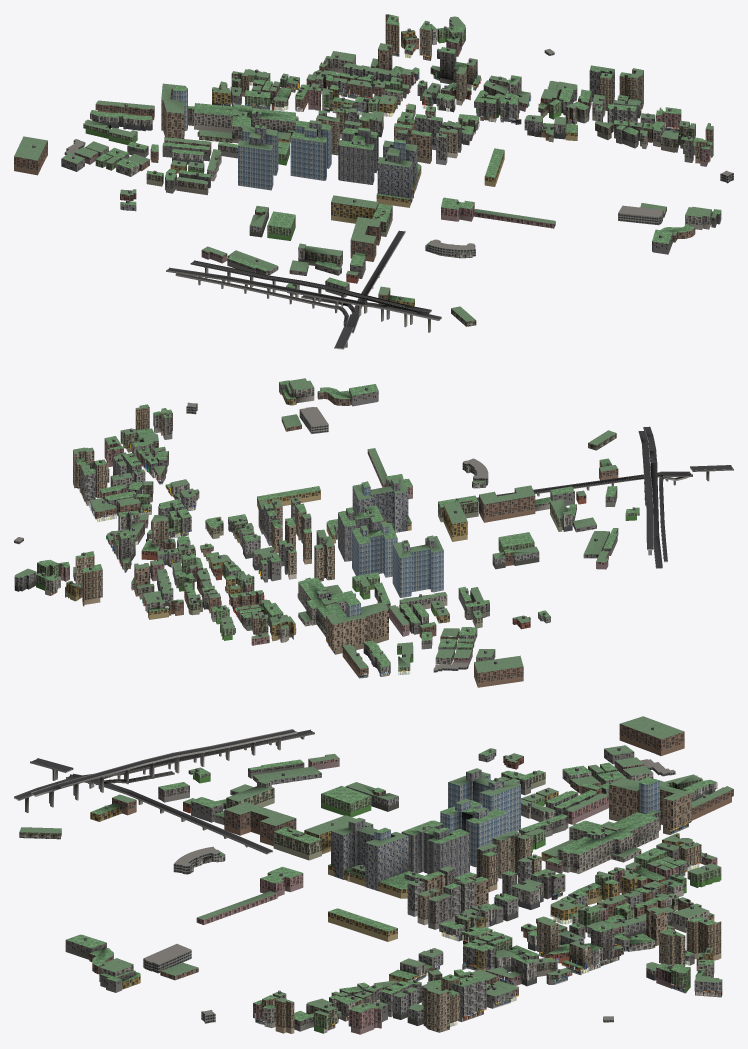
The picture shows the model from 3 angles, top to bottom: view 1: azimuth 30°, elevation 25°; view 2: azimuth 150°, elevation 25°; view 3: azimuth 270°, elevation 25°; orthographic projection. The views are drawn at different scales.
Parts seen in each view (by area): view 1: buildings_roof_ai_1, buildings_roof_ai_0, buildings_facade_glass, bridges_concrete, buildings_facade_ai_brown_brick_tile, buildings_facade_ai_concrete, buildings_facade_ai_cream, buildings_facade_ai_green_tile_apts, buildings_facade_ai_pink, bridges_deck, buildings_facade_ai_yellow_tile_apts, buildings_facade_ai_white_tile_apts (+13 smaller); view 2: buildings_roof_ai_1, buildings_roof_ai_0, buildings_facade_ai_brown_brick_tile, buildings_facade_glass, buildings_facade_ai_hotel_tiles, buildings_facade_ai_cream, bridges_deck, buildings_facade_ai_green_tile_apts, buildings_facade_ai_concrete, buildings_facade_ai_grey, buildings_facade_ai_yellow_tile_apts, buildings_facade_ai_school_corridor (+14 smaller); view 3: buildings_roof_ai_1, buildings_roof_ai_0, buildings_facade_ai_brown_brick_tile, buildings_facade_ai_cream, buildings_facade_ai_school_corridor, buildings_facade_ai_pink, buildings_facade_ai_concrete, buildings_facade_glass, bridges_concrete, buildings_facade_ai_yellow_tile_apts, buildings_facade_ai_green_tile_apts, buildings_facade_ai_grey (+13 smaller).
Boxes of the visible parts, <box> form: buildings_roof_ai_1: <box>14,16,713,321</box>; buildings_roof_ai_0: <box>90,14,720,302</box>; buildings_facade_glass: <box>173,89,405,190</box>; bridges_concrete: <box>166,230,441,349</box>; buildings_facade_ai_brown_brick_tile: <box>14,36,695,304</box>; buildings_facade_ai_concrete: <box>127,50,695,297</box>; buildings_facade_ai_cream: <box>85,29,712,256</box>; buildings_facade_ai_green_tile_apts: <box>83,27,695,289</box>; buildings_facade_ai_pink: <box>74,36,710,263</box>; bridges_deck: <box>167,231,441,348</box>; buildings_facade_ai_yellow_tile_apts: <box>170,31,577,306</box>; buildings_facade_ai_white_tile_apts: <box>90,50,566,261</box>; buildings_roof_ai_1: <box>14,378,617,672</box>; buildings_roof_ai_0: <box>36,380,639,667</box>; buildings_facade_ai_brown_brick_tile: <box>65,388,618,687</box>; buildings_facade_glass: <box>346,483,443,617</box>; buildings_facade_ai_hotel_tiles: <box>134,505,388,654</box>; buildings_facade_ai_cream: <box>45,381,549,664</box>; bridges_deck: <box>477,427,732,567</box>; buildings_facade_ai_green_tile_apts: <box>36,431,639,671</box>; buildings_facade_ai_concrete: <box>84,415,618,649</box>; buildings_facade_ai_grey: <box>14,457,609,623</box>; buildings_facade_ai_yellow_tile_apts: <box>66,389,602,641</box>; buildings_facade_ai_school_corridor: <box>73,450,334,584</box>; buildings_roof_ai_1: <box>19,716,733,1015</box>; buildings_roof_ai_0: <box>66,748,720,1021</box>; buildings_facade_ai_brown_brick_tile: <box>89,724,733,1006</box>; buildings_facade_ai_cream: <box>99,769,714,1027</box>; buildings_facade_ai_school_corridor: <box>417,833,685,1032</box>; buildings_facade_ai_pink: <box>196,755,717,1034</box>; buildings_facade_ai_concrete: <box>158,763,687,1031</box>; buildings_facade_glass: <box>374,774,659,867</box>; bridges_concrete: <box>14,729,314,854</box>; buildings_facade_ai_yellow_tile_apts: <box>90,791,714,989</box>; buildings_facade_ai_green_tile_apts: <box>188,764,721,1033</box>; buildings_facade_ai_grey: <box>253,750,722,1025</box>.
Size of the model in its own units: 726 by 69.44 by 730.
Materials: 36 (33 with a texture image).
